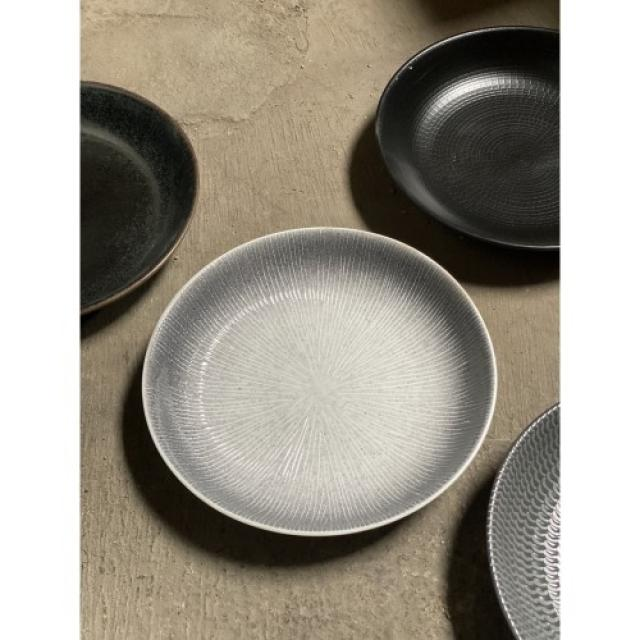Plate: (127, 222, 503, 550)
